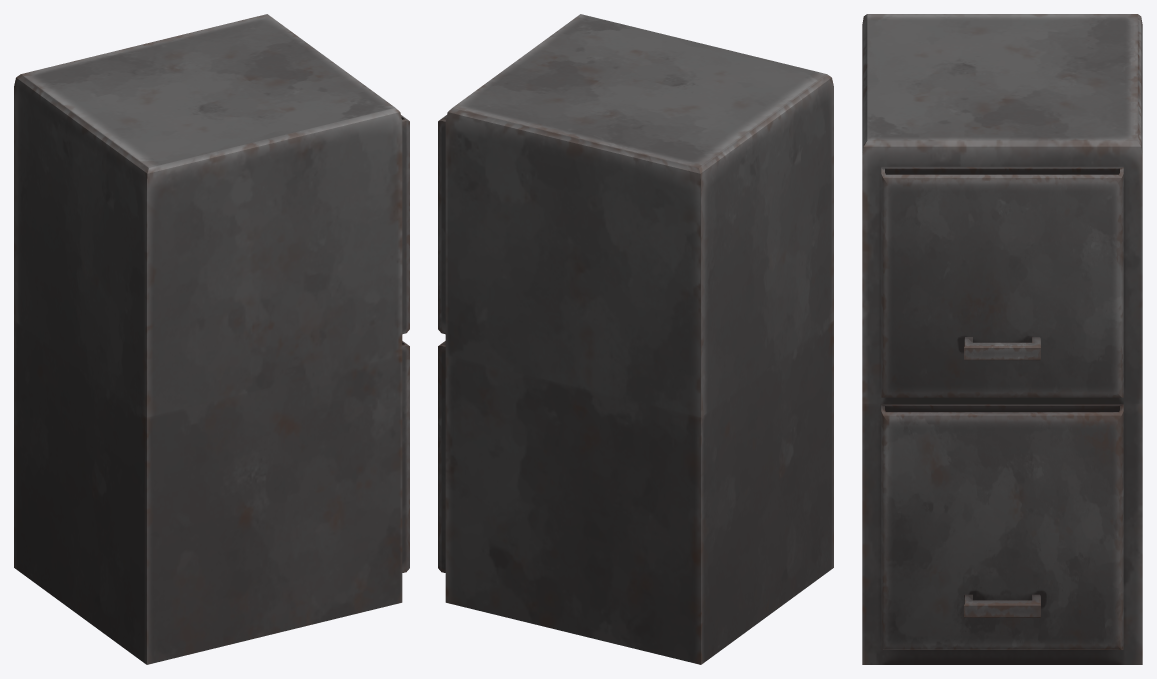
Rendered from LadekastKlein.fbx.
3 renders of one model, left to right at view 1: azimuth 30°, elevation 25°; view 2: azimuth 150°, elevation 25°; view 3: azimuth 270°, elevation 25°, orthographic. The views are drawn at different scales.
Visible parts, largest first — view 1: LadekastKlein; view 2: LadekastKlein; view 3: LadekastKlein.
Part boxes in pixels (x1=…): LadekastKlein: x1=14, y1=14, x2=409, y2=664; LadekastKlein: x1=438, y1=14, x2=833, y2=664; LadekastKlein: x1=862, y1=14, x2=1142, y2=664.
Size of the model in its own units: 57.97 by 93.33 by 45.47.
